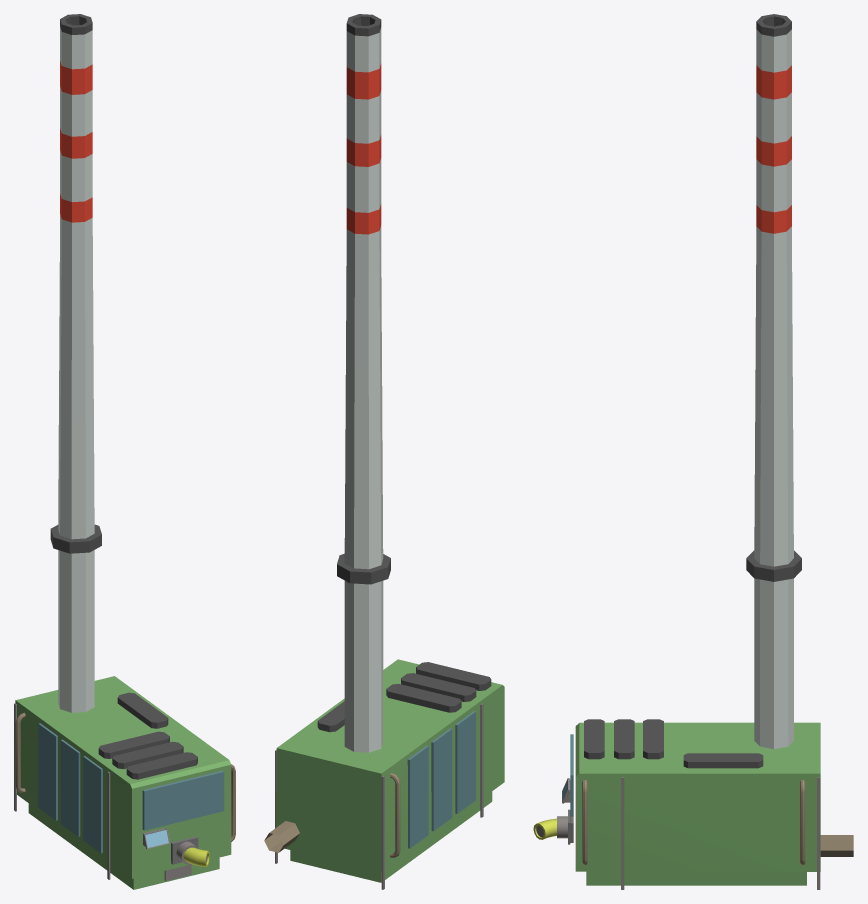
The model's file is SM_Boiler_Pipe_01.fbx.
The picture shows the model from 3 angles, left to right: view 1: azimuth 30°, elevation 25°; view 2: azimuth 150°, elevation 25°; view 3: azimuth 270°, elevation 25°; orthographic projection. The views are drawn at different scales.
Visible parts, largest first — view 1: SM_Boiler_Pipe_01; view 2: SM_Boiler_Pipe_01; view 3: SM_Boiler_Pipe_01.
Boxes of the visible parts, x1=… form: SM_Boiler_Pipe_01: x1=14, y1=14, x2=235, y2=889; SM_Boiler_Pipe_01: x1=264, y1=14, x2=504, y2=889; SM_Boiler_Pipe_01: x1=533, y1=14, x2=853, y2=889.
Bounding box in the file's own units: 321 × 2092 × 726.
